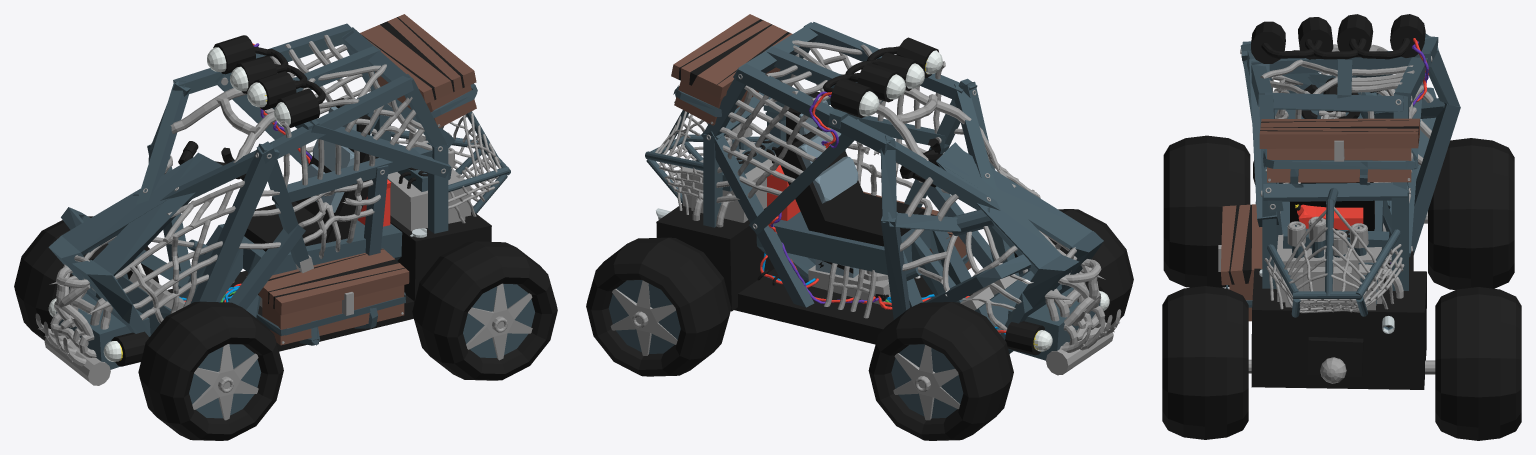
The model's file is auto-espacial.FBX.
3 views of the same model, side by side, from view 1: azimuth 30°, elevation 25°; view 2: azimuth 150°, elevation 25°; view 3: azimuth 270°, elevation 25° (orthographic). The views are drawn at different scales.
Parts seen in each view (by area): view 1: default; view 2: default; view 3: default.
Part boxes in pixels (x1,y1,x2,y2): default: (14, 14, 557, 440); default: (586, 14, 1133, 440); default: (1162, 14, 1521, 440).
Size of the model in its own units: 0.356 by 0.2318 by 0.2284.
